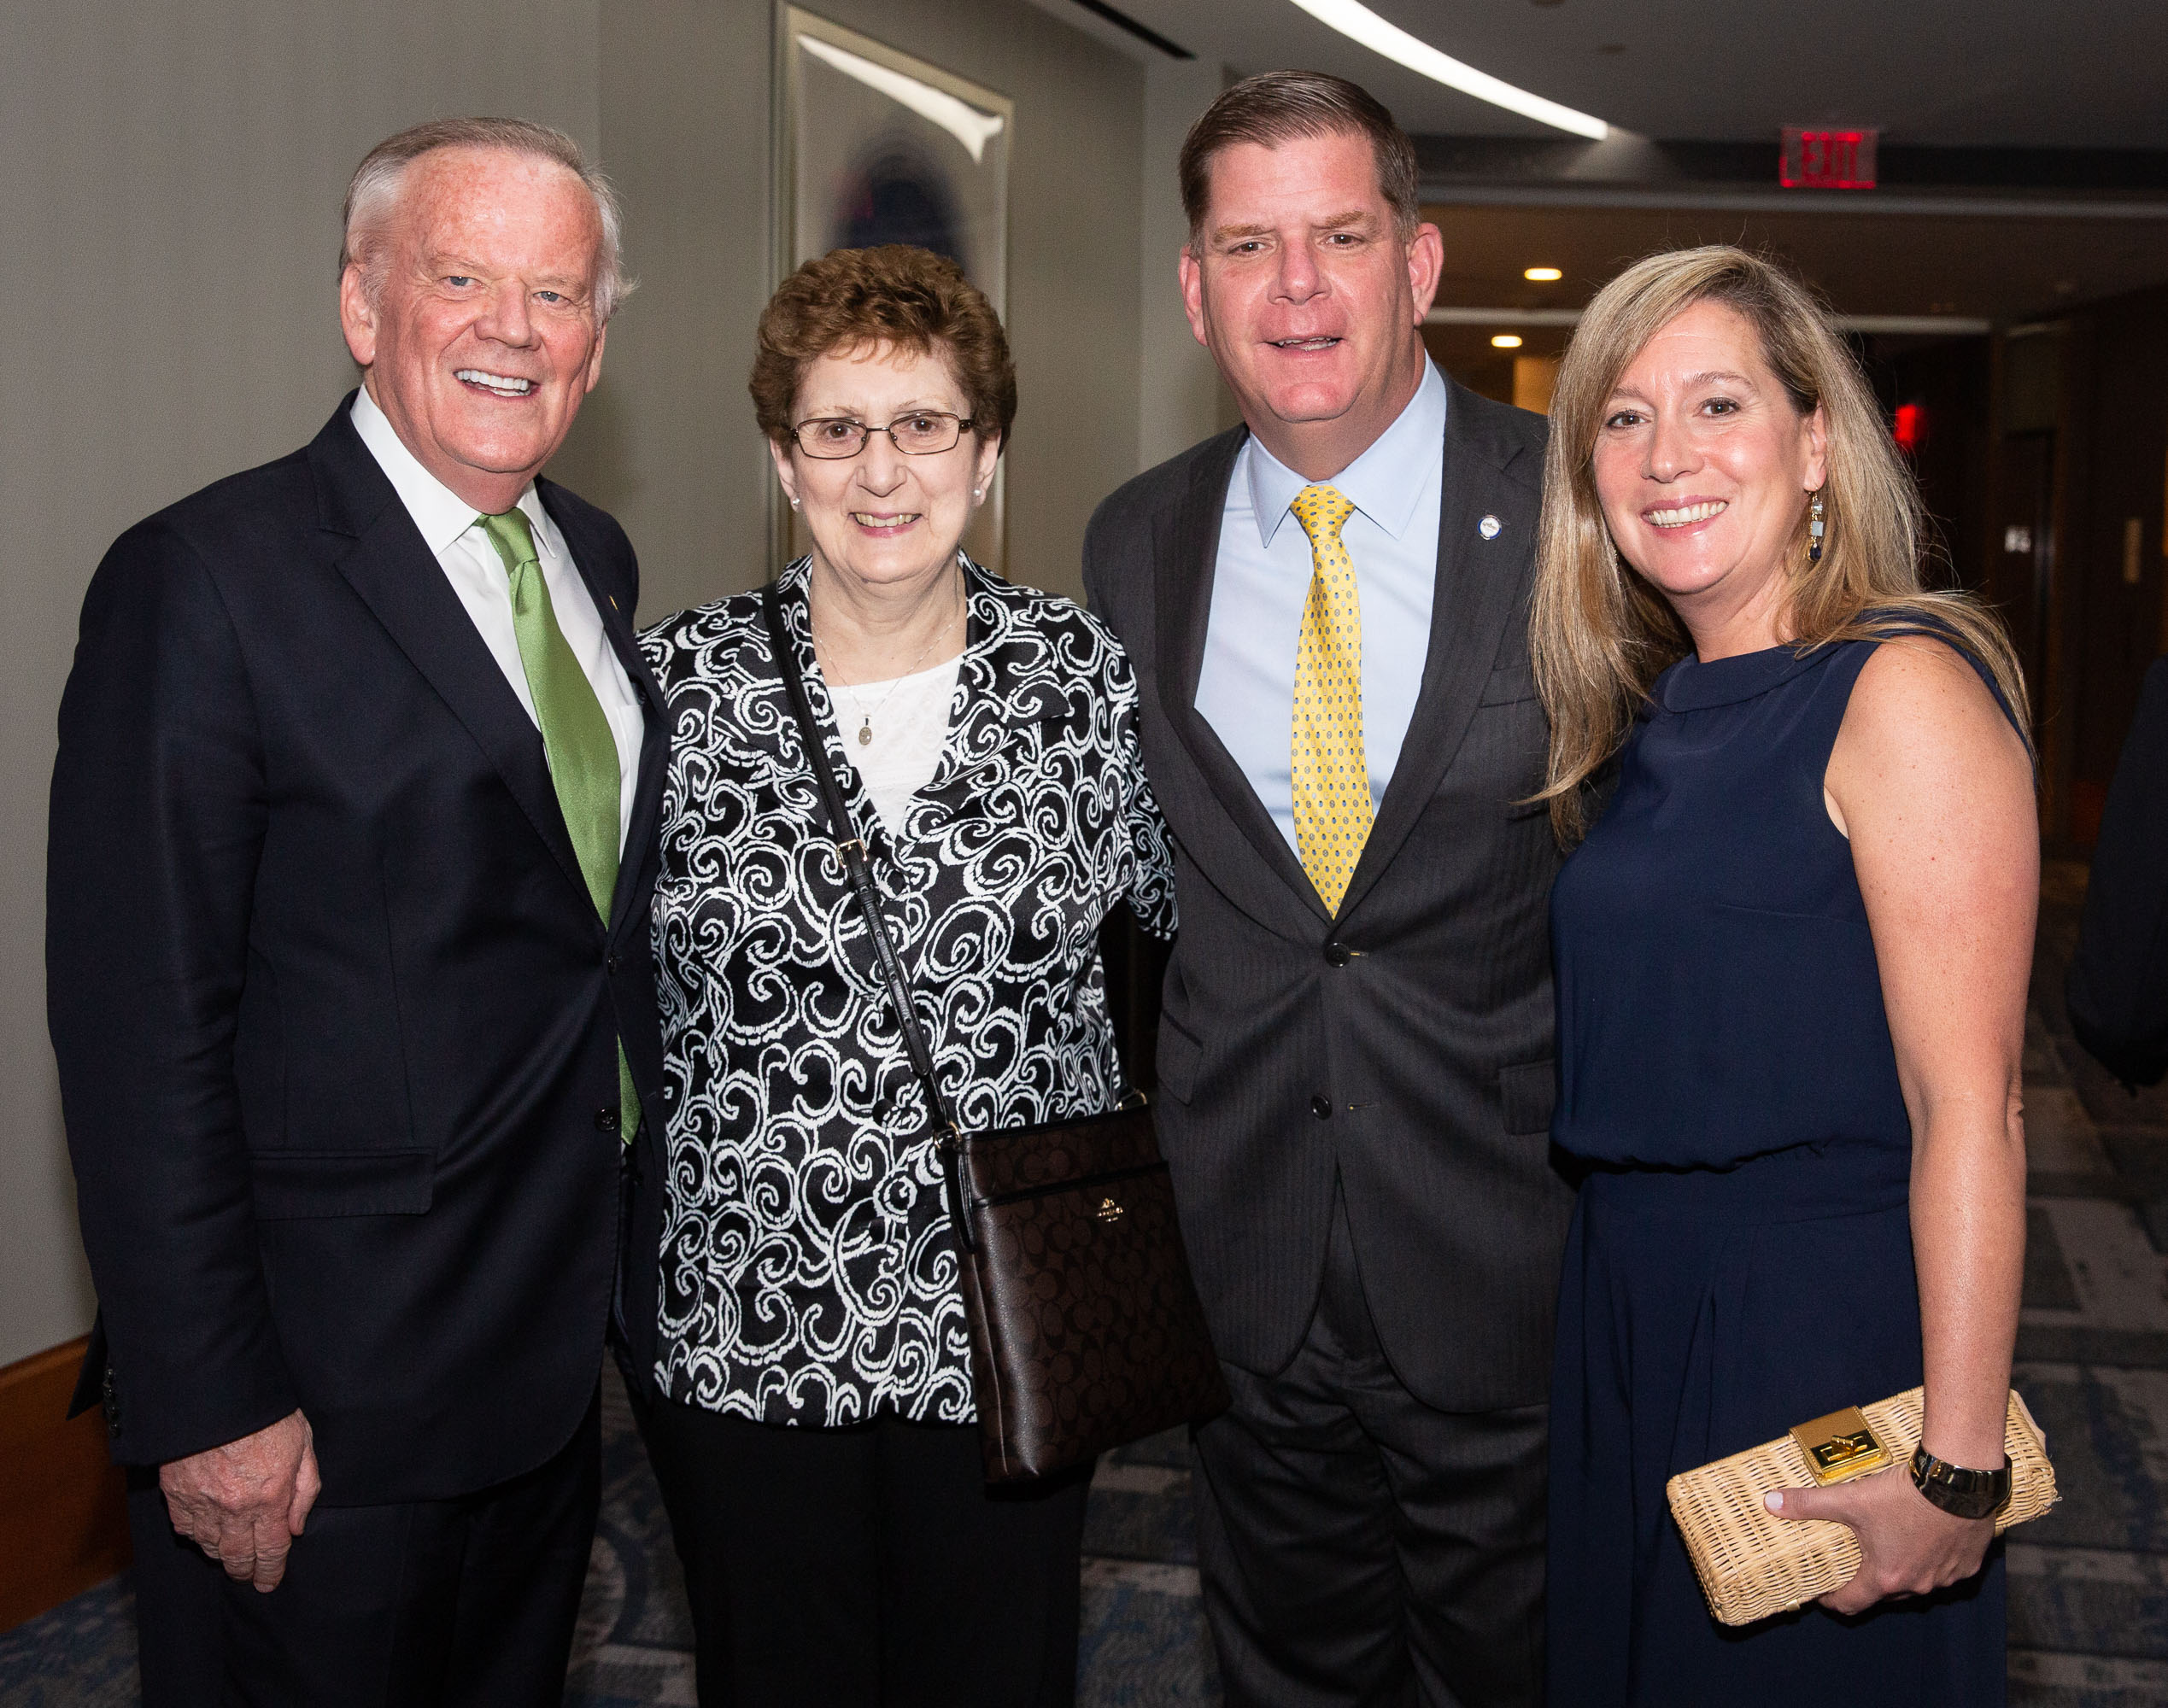Person: (101, 118, 668, 1708), (1522, 235, 2024, 1708), (1148, 97, 1522, 1708), (711, 256, 1105, 1708)
